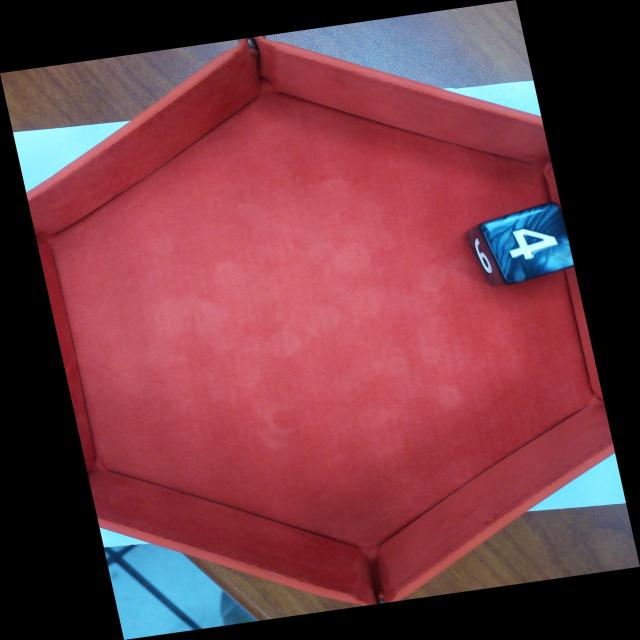dice: (479, 200, 576, 286)
